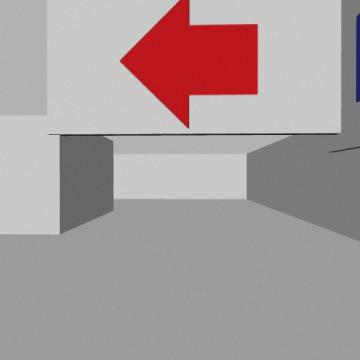red_left: (120, 0, 258, 128)
